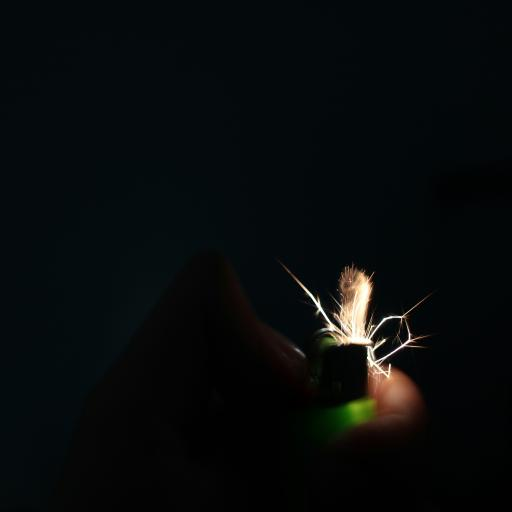lighter: (270, 248, 432, 447)
